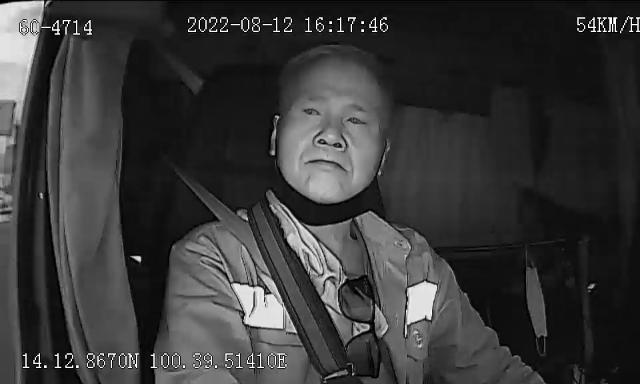SafeDriving: (338, 105, 374, 134), (293, 98, 328, 124)
Seatbelt: (174, 164, 356, 384)
